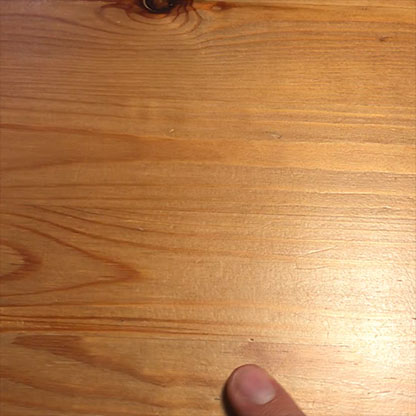fingertip: (217, 352, 284, 409)
